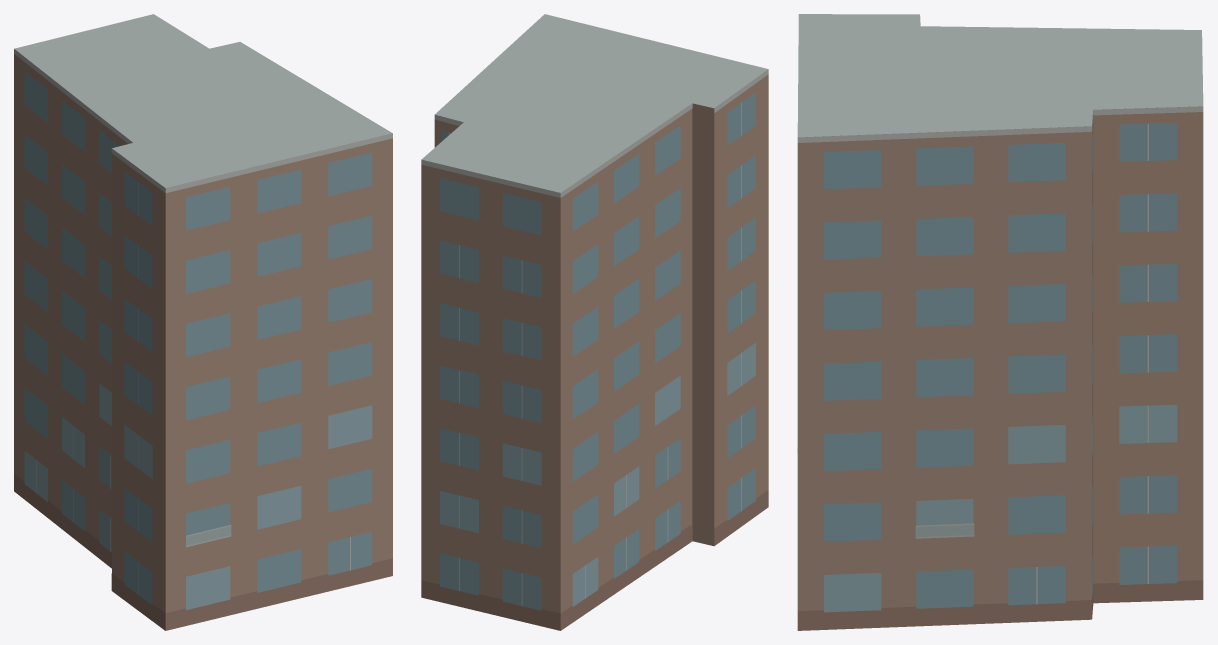
File: survey-upis-32983613.glb
3 views of the same model, side by side, from view 1: azimuth 30°, elevation 25°; view 2: azimuth 150°, elevation 25°; view 3: azimuth 270°, elevation 25° (orthographic). The views are drawn at different scales.
Visible parts, largest first — view 1: survey-upis-32983613.tmp; view 2: survey-upis-32983613.tmp; view 3: survey-upis-32983613.tmp.
Boxes of the visible parts, x1,y1,x2,y2 form: survey-upis-32983613.tmp: (14,14,392,630); survey-upis-32983613.tmp: (421,14,768,630); survey-upis-32983613.tmp: (797,14,1203,630).
Bounding box in the file's own units: 11.46 × 21.35 × 15.92.
